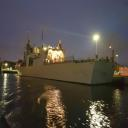Fragata: (15, 28, 119, 88)
